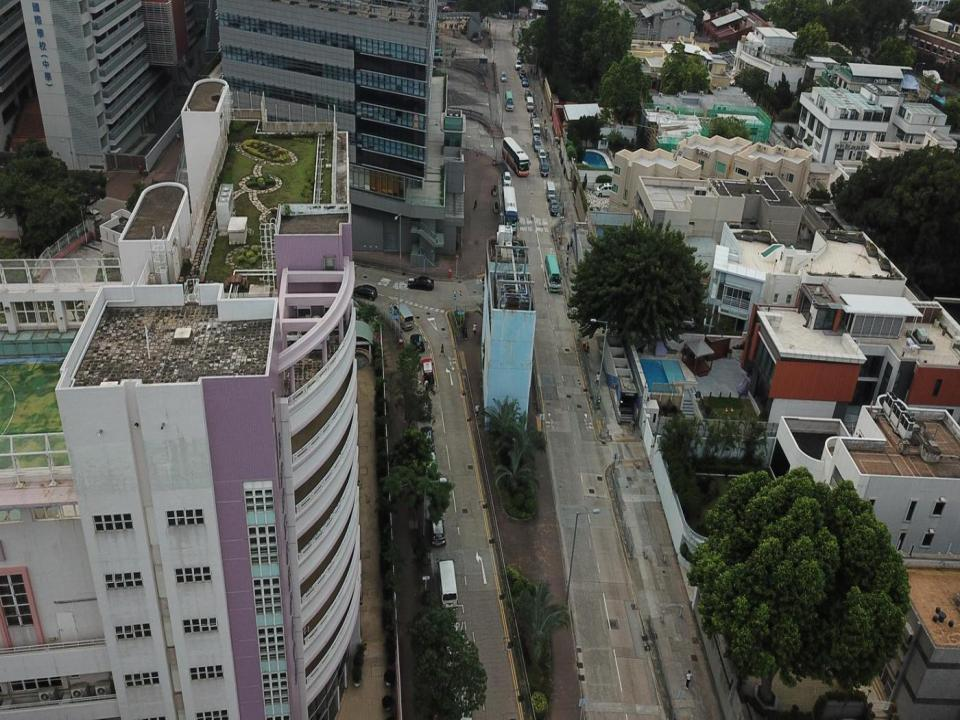bus: (502, 135, 531, 178), (502, 186, 518, 232), (544, 254, 562, 293), (504, 90, 513, 110), (428, 48, 442, 60)
car: (431, 516, 445, 546), (422, 358, 435, 389), (420, 426, 434, 453), (409, 277, 434, 292), (418, 395, 431, 419), (410, 334, 426, 352), (548, 197, 560, 216), (532, 135, 542, 151), (502, 171, 511, 186), (530, 113, 538, 129), (524, 88, 532, 102), (539, 149, 546, 162), (515, 58, 521, 70), (519, 68, 525, 78), (501, 72, 506, 82), (522, 76, 527, 85)
van: (439, 558, 459, 608), (393, 302, 414, 331), (352, 285, 378, 301), (596, 183, 618, 197), (546, 180, 556, 199), (539, 158, 549, 176), (532, 118, 540, 138), (526, 95, 534, 111)
